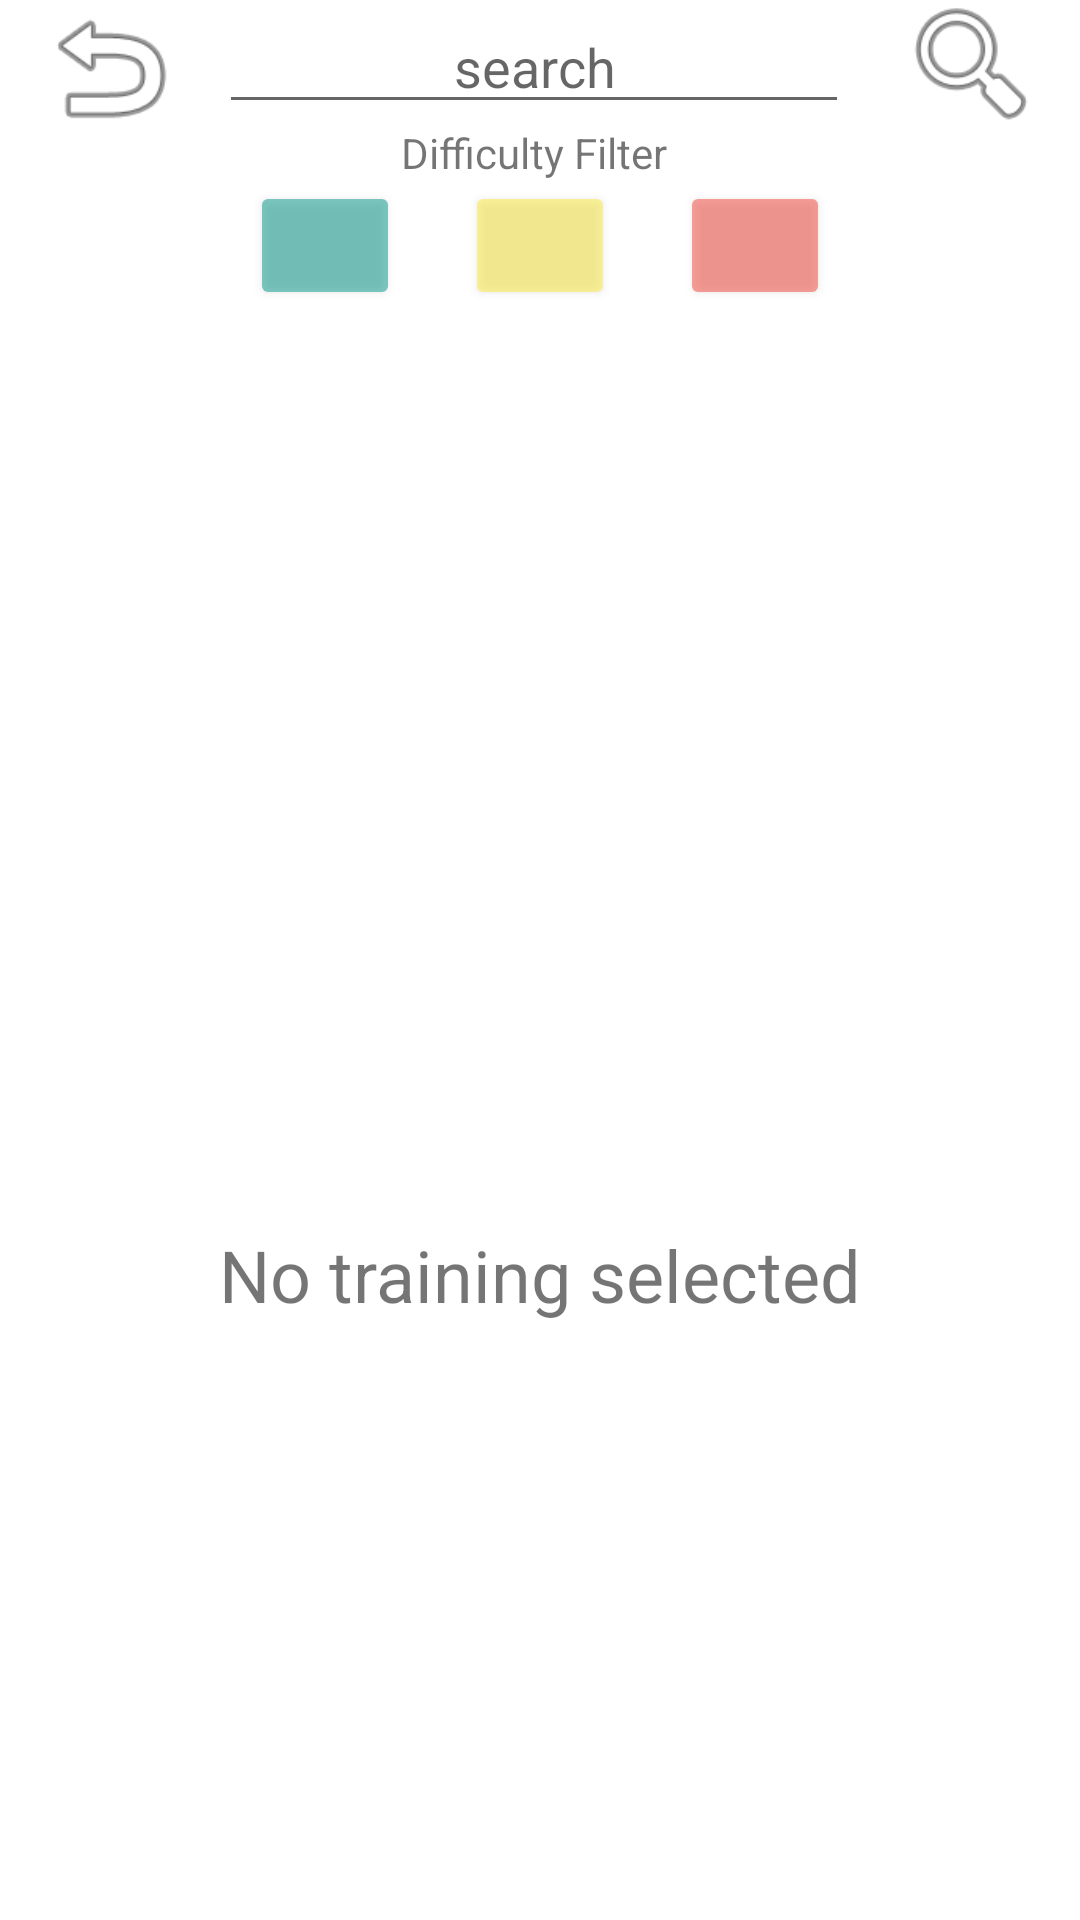

Icon bounding boxes for this 1080x1920 phone screenshot, format (x1, y1, x2, y2):
revert: (58, 20, 166, 118)
